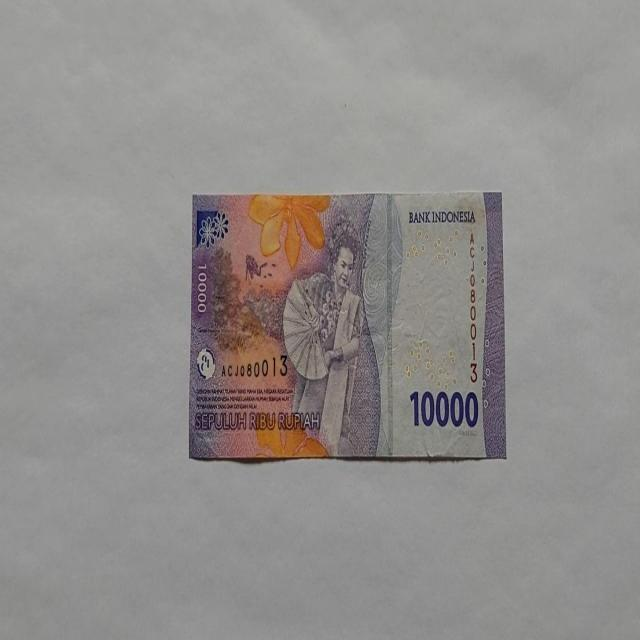Kertas: (188, 189, 506, 463), (409, 387, 479, 429)
